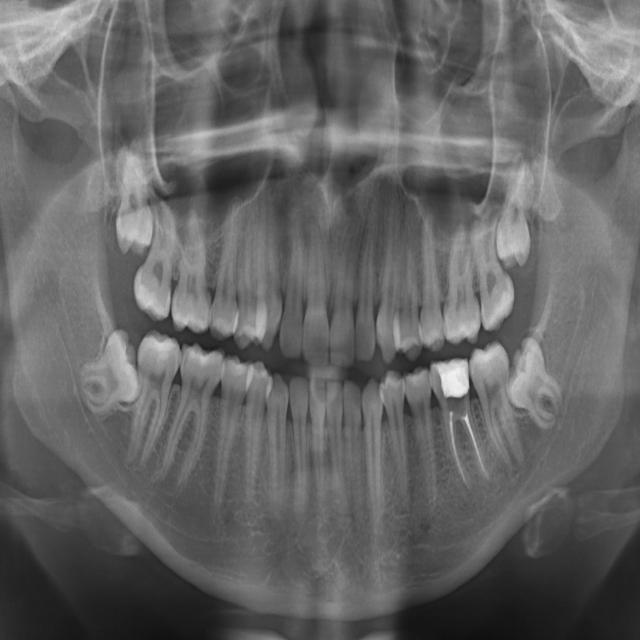CompositeResinRestoration: (436, 359, 470, 402)
ImpactedTooth: (81, 324, 140, 412), (508, 325, 556, 425), (112, 153, 156, 253), (494, 180, 534, 273)
RootCanalTreatment: (442, 406, 486, 487)
